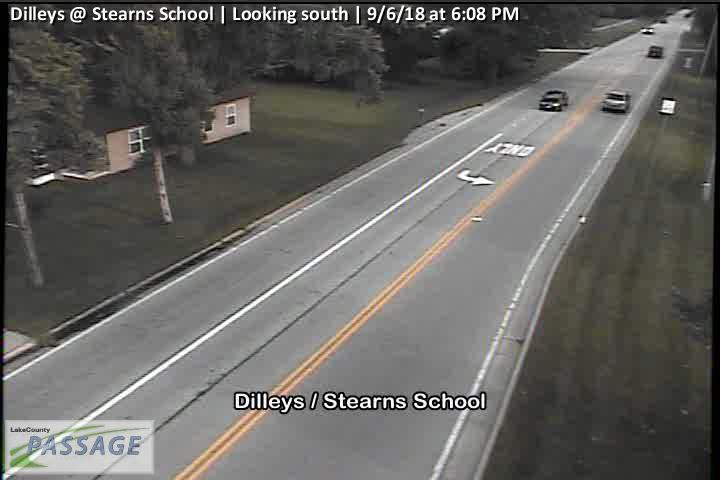SUV: (601, 90, 631, 115), (539, 90, 568, 111)
Sedan: (648, 44, 663, 59), (641, 26, 654, 34)
